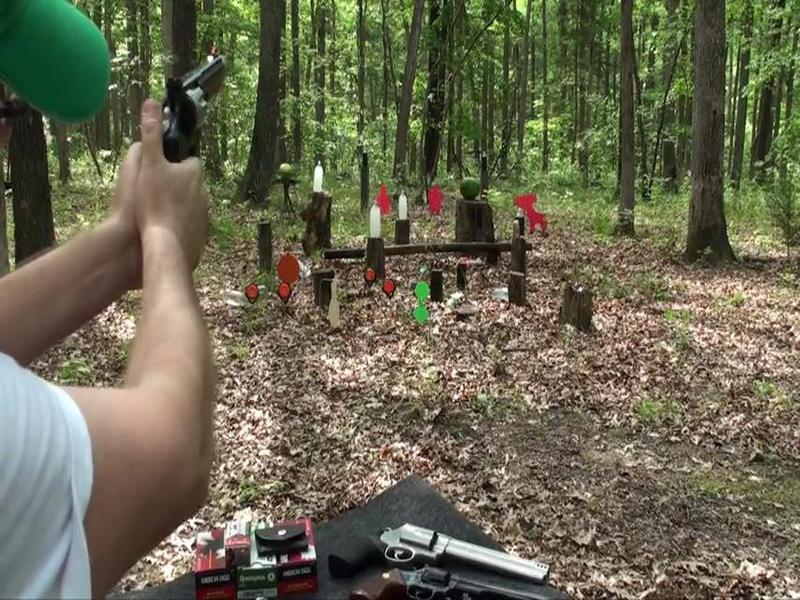Revolver: (148, 39, 238, 198)
